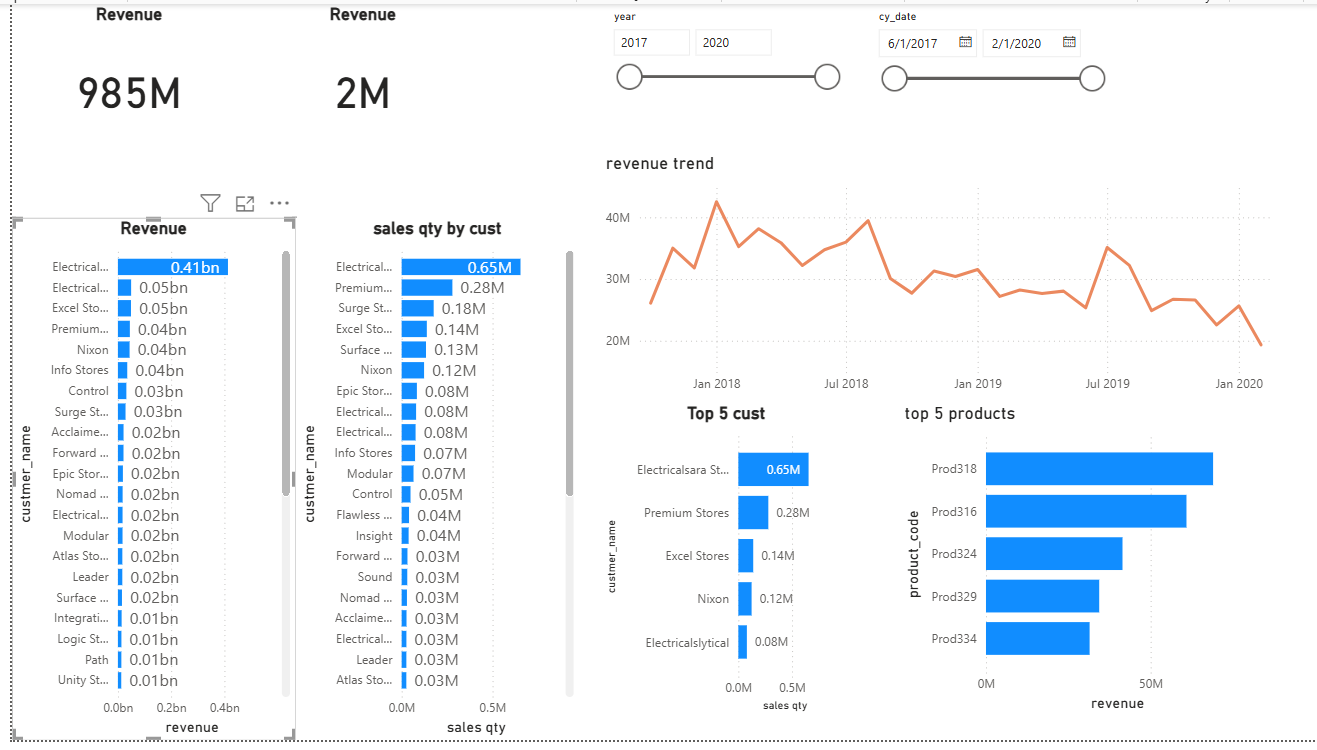

This screenshot's page, from the dashboard's own definition file:
{"tool":"powerbi","page":{"name":"Page 1","canvas":[1280,720],"ordinal":0},"visuals":[{"type":"card","title":"Revenue","fields":{"Values":["customer table.revenue"]},"box":[0,0,229.2,145.5],"z":0},{"type":"card","title":"Revenue","fields":{"Values":["customer table.sales qty"]},"box":[229.2,0,229.2,145.5],"z":1000},{"type":"barChart","title":"Revenue","fields":{"Y":["customer table.revenue"],"Category":["customer table.custmer_name"]},"box":[0,208.6,277.2,511.8],"z":2000},{"type":"barChart","title":"sales qty by cust","fields":{"Category":["customer table.custmer_name"],"Y":["customer table.sales qty"]},"box":[277.2,208.6,277.2,511.8],"z":3000},{"type":"slicer","fields":{"Values":["date.year"]},"box":[576.3,0,242.9,108.4],"z":4000},{"type":"slicer","fields":{"Values":["date.cy_date"]},"box":[835.7,0,242.9,108.4],"z":5000},{"type":"barChart","title":"Top 5 cust","fields":{"Category":["customer table.custmer_name"],"Y":["customer table.sales qty"]},"box":[576.3,389.7,245.6,307.4],"z":6000},{"type":"lineChart","title":"revenue trend","fields":{"Y":["customer table.revenue"],"Category":["date.cy_date"]},"box":[576.3,145.5,675.1,244.3],"z":8000},{"type":"barChart","title":"top 5 products","fields":{"Category":["transactions.product_code"],"Y":["customer table.revenue"]},"box":[868.6,389.7,359.5,307.4],"z":8001}]}

Visuals, with their boxes in screenshot pixels (x1, y1, x2, y2), scaled from the page's 1280x720 canvas onto the 1317x750 screenshot:
"Revenue" card: [0,0,236,152]
"Revenue" card: [236,0,472,152]
"Revenue" barChart: [0,217,285,749]
"sales qty by cust" barChart: [285,217,570,749]
slicer - date.year: [593,0,843,113]
slicer - date.cy_date: [860,0,1110,113]
"Top 5 cust" barChart: [593,406,846,726]
"revenue trend" lineChart: [593,152,1288,406]
"top 5 products" barChart: [894,406,1264,726]
